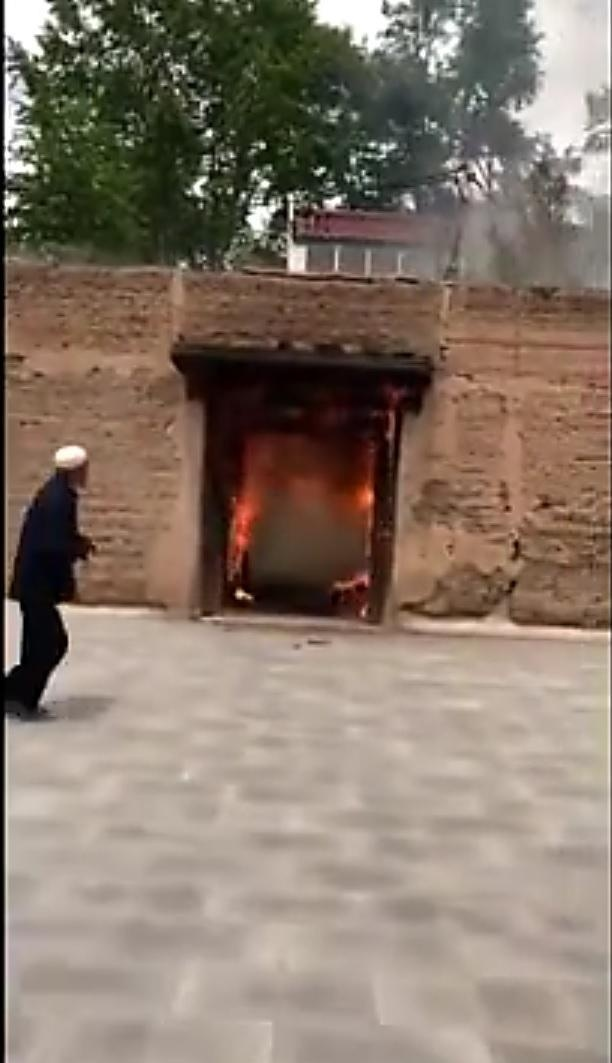fire: (224, 486, 257, 592)
